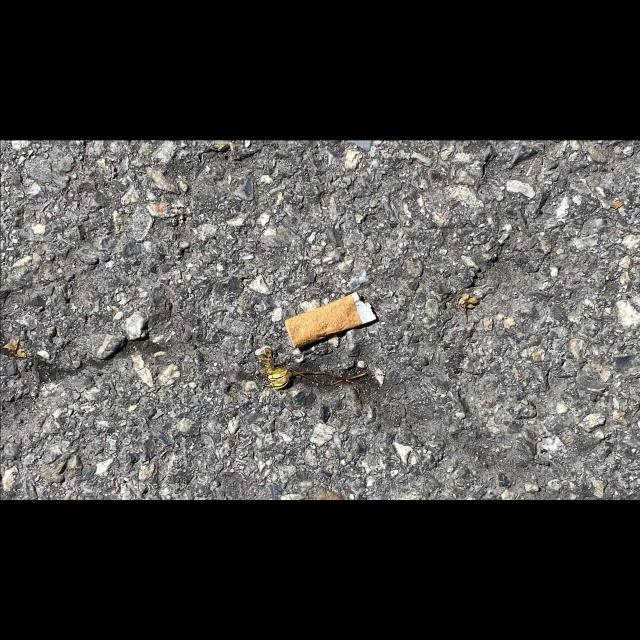cigarette: (283, 291, 377, 350)
